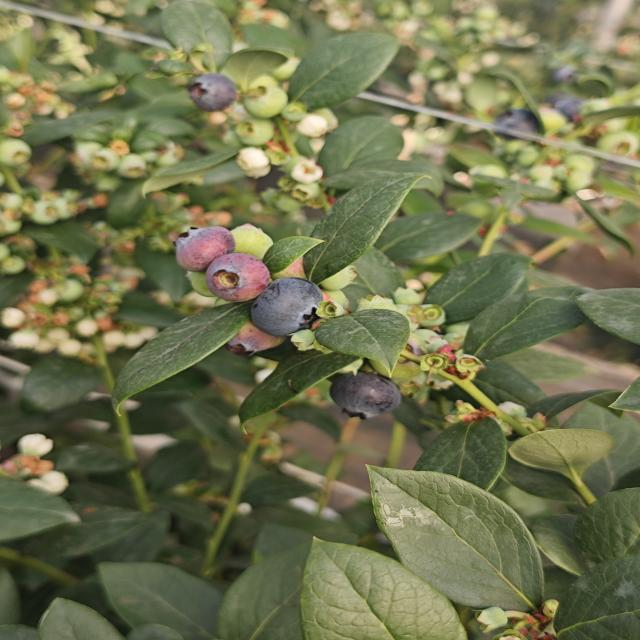ripe: (248, 276, 327, 338), (326, 369, 404, 423), (202, 251, 272, 304), (172, 224, 238, 274), (184, 71, 240, 115), (492, 104, 547, 140), (550, 90, 594, 124)
